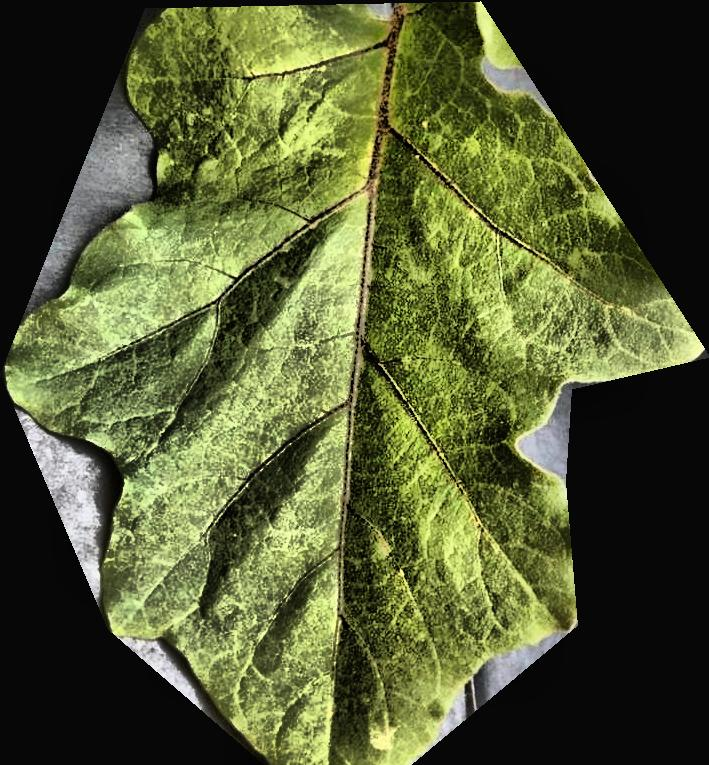HEALTHY: (0, 1, 709, 765)
